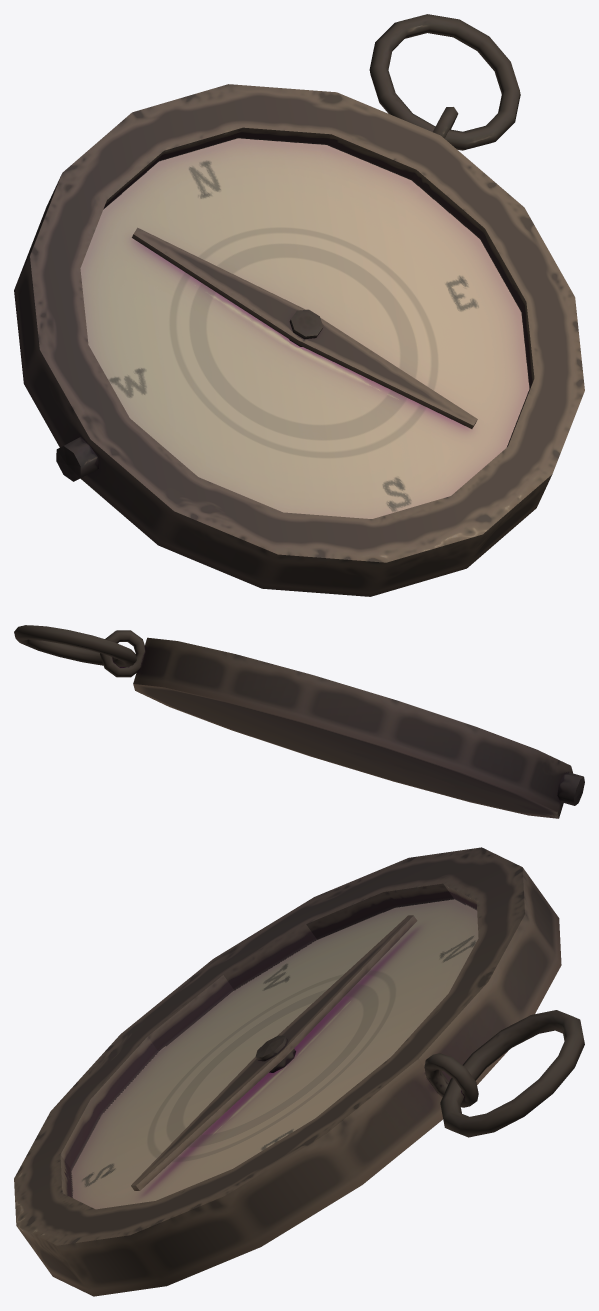
File: bussola.glb
The picture shows the model from 3 angles, top to bottom: view 1: azimuth 30°, elevation 25°; view 2: azimuth 150°, elevation 25°; view 3: azimuth 270°, elevation 25°; orthographic projection. The views are drawn at different scales.
Visible parts, largest first — view 1: bussola; view 2: bussola; view 3: bussola.
Boxes of the visible parts, x1,y1,x2,y2 form: bussola: (14, 14, 584, 596); bussola: (14, 625, 584, 818); bussola: (14, 847, 584, 1296).
Size of the model in its own units: 2.6 by 1.41 by 2.05.
Materials: 1 (1 with a texture image).
